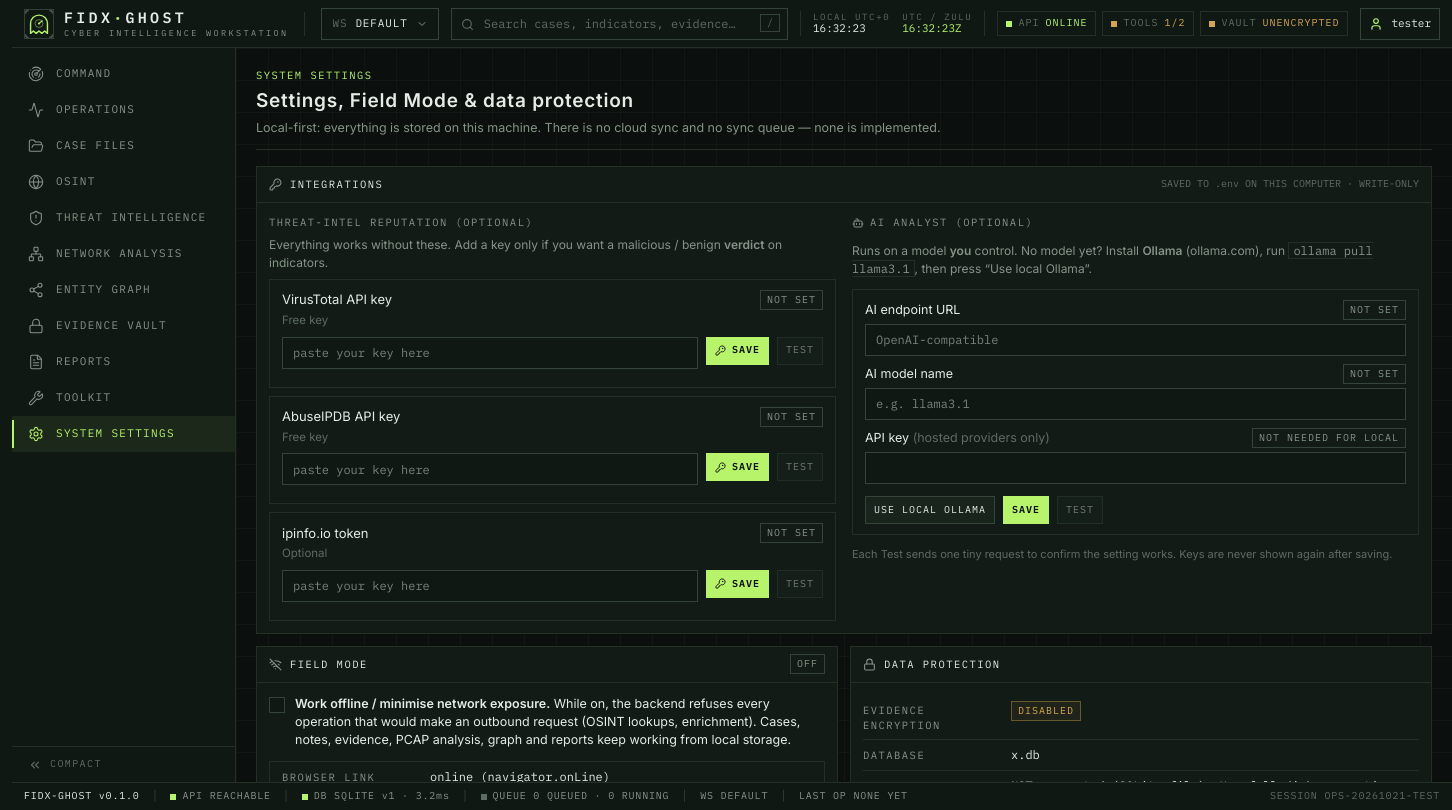
Test: Integrations (Settings) › saves only what was typed, clears the field, and never shows the secret back
Check: the text "not set" in the row of "VirusTotal API key" is shown, box left=767, top=293, right=816, bottom=306
Type "vt_ABCDEFGH1234567890" into the password field labelled "VirusTotal API key" at (490, 353), box left=282, top=337, right=698, bottom=369
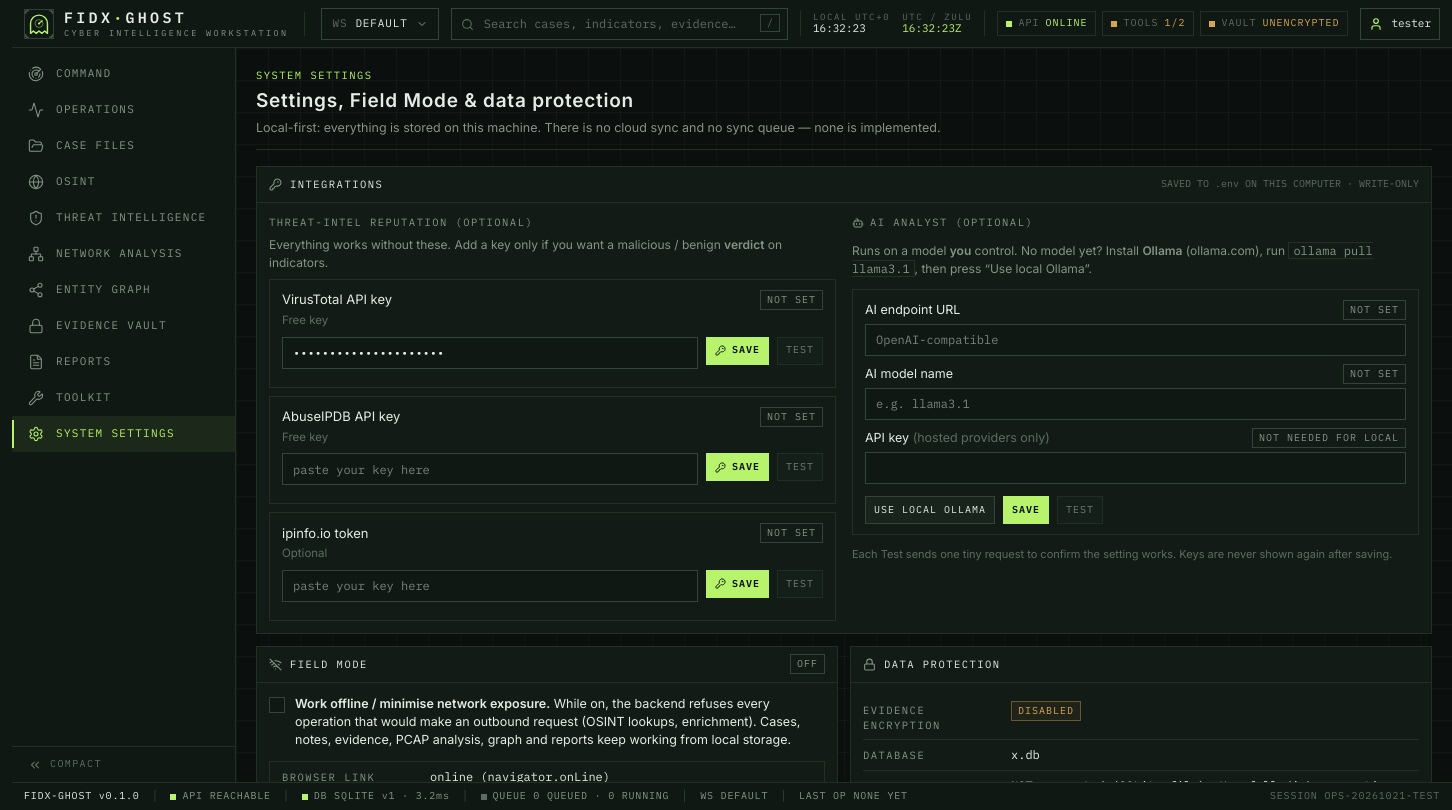
Click the 1st button "Save" at (738, 351), box left=706, top=337, right=769, bottom=365
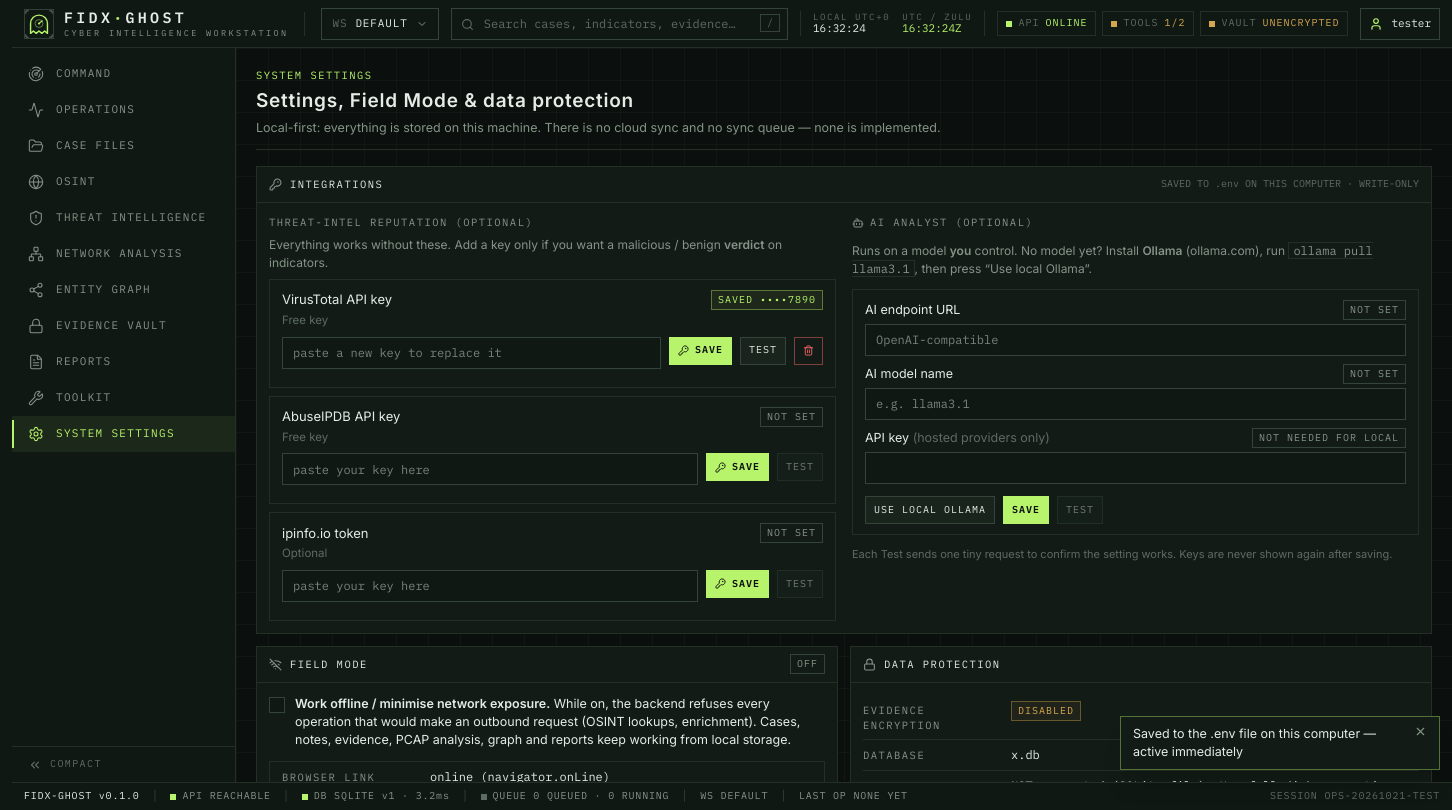
Check: the text "saved ••••7890" is shown, box left=711, top=290, right=823, bottom=310
Check: the password field labelled "VirusTotal API key" is empty, box left=282, top=337, right=661, bottom=369
